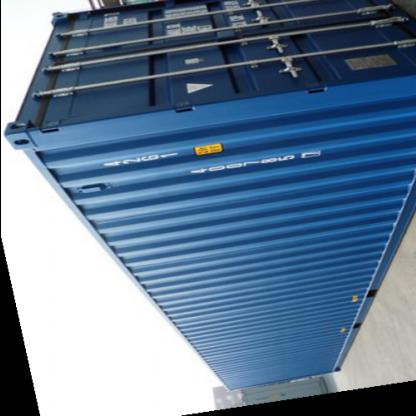Damage: (25, 70, 55, 132)
